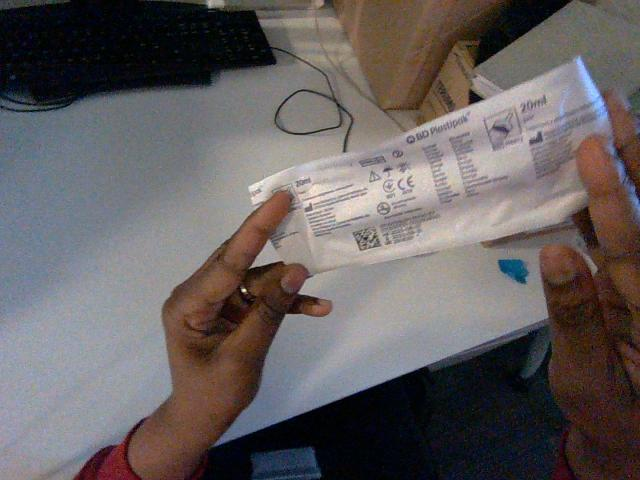syringe: (249, 58, 611, 273)
